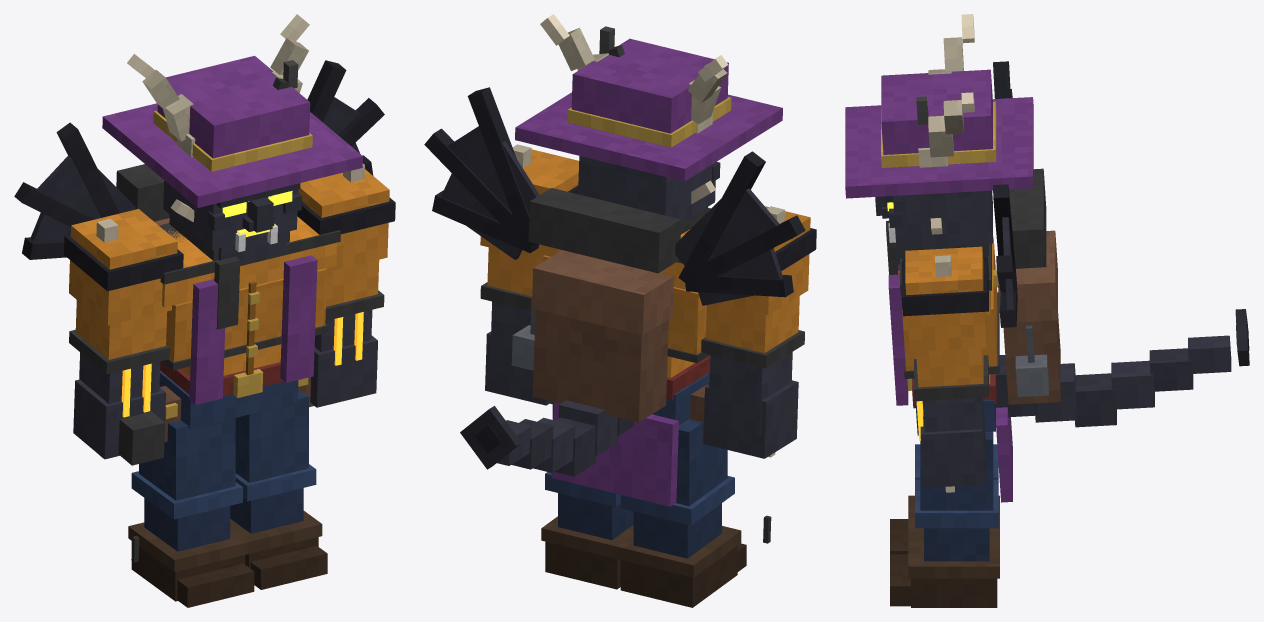
File: demon_marchand_v3.glb
3 views of the same model, side by side, from view 1: azimuth 30°, elevation 25°; view 2: azimuth 150°, elevation 25°; view 3: azimuth 270°, elevation 25° (orthographic). The views are drawn at different scales.
Parts seen in each view (by area): view 1: Torso, Head, ArmR, LegR, ArmL, LegL, HandR; view 2: Torso, Head, ArmR, LegR, ArmL, LegL; view 3: Torso, Head, ArmL, LegL, LegR.
Boxes of the visible parts, box(x1,y1,x2,y2) form: Torso: box(14, 60, 384, 442); Head: box(102, 14, 362, 262); ArmR: box(63, 209, 183, 459); LegR: box(128, 418, 254, 607); ArmL: box(297, 163, 395, 407); LegL: box(230, 391, 327, 589); HandR: box(118, 411, 164, 562); Torso: box(424, 87, 805, 506); Head: box(515, 14, 782, 234); ArmR: box(701, 206, 816, 458); LegR: box(617, 419, 746, 607); ArmL: box(480, 144, 578, 405); LegL: box(541, 401, 633, 589); Torso: box(886, 61, 1249, 502); Head: box(845, 14, 1033, 264); ArmL: box(901, 246, 988, 492); LegL: box(890, 431, 999, 607); LegR: box(890, 444, 999, 554).
Bounding box in the file's own units: 1.58 × 2.2 × 1.55.
40 materials, 40 textured.
